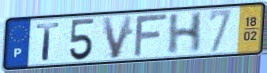5: (68, 16, 96, 62)
7: (207, 9, 235, 54)
F: (132, 12, 170, 59)
H: (166, 10, 206, 56)
T: (35, 21, 62, 62)
V: (100, 13, 136, 61)
